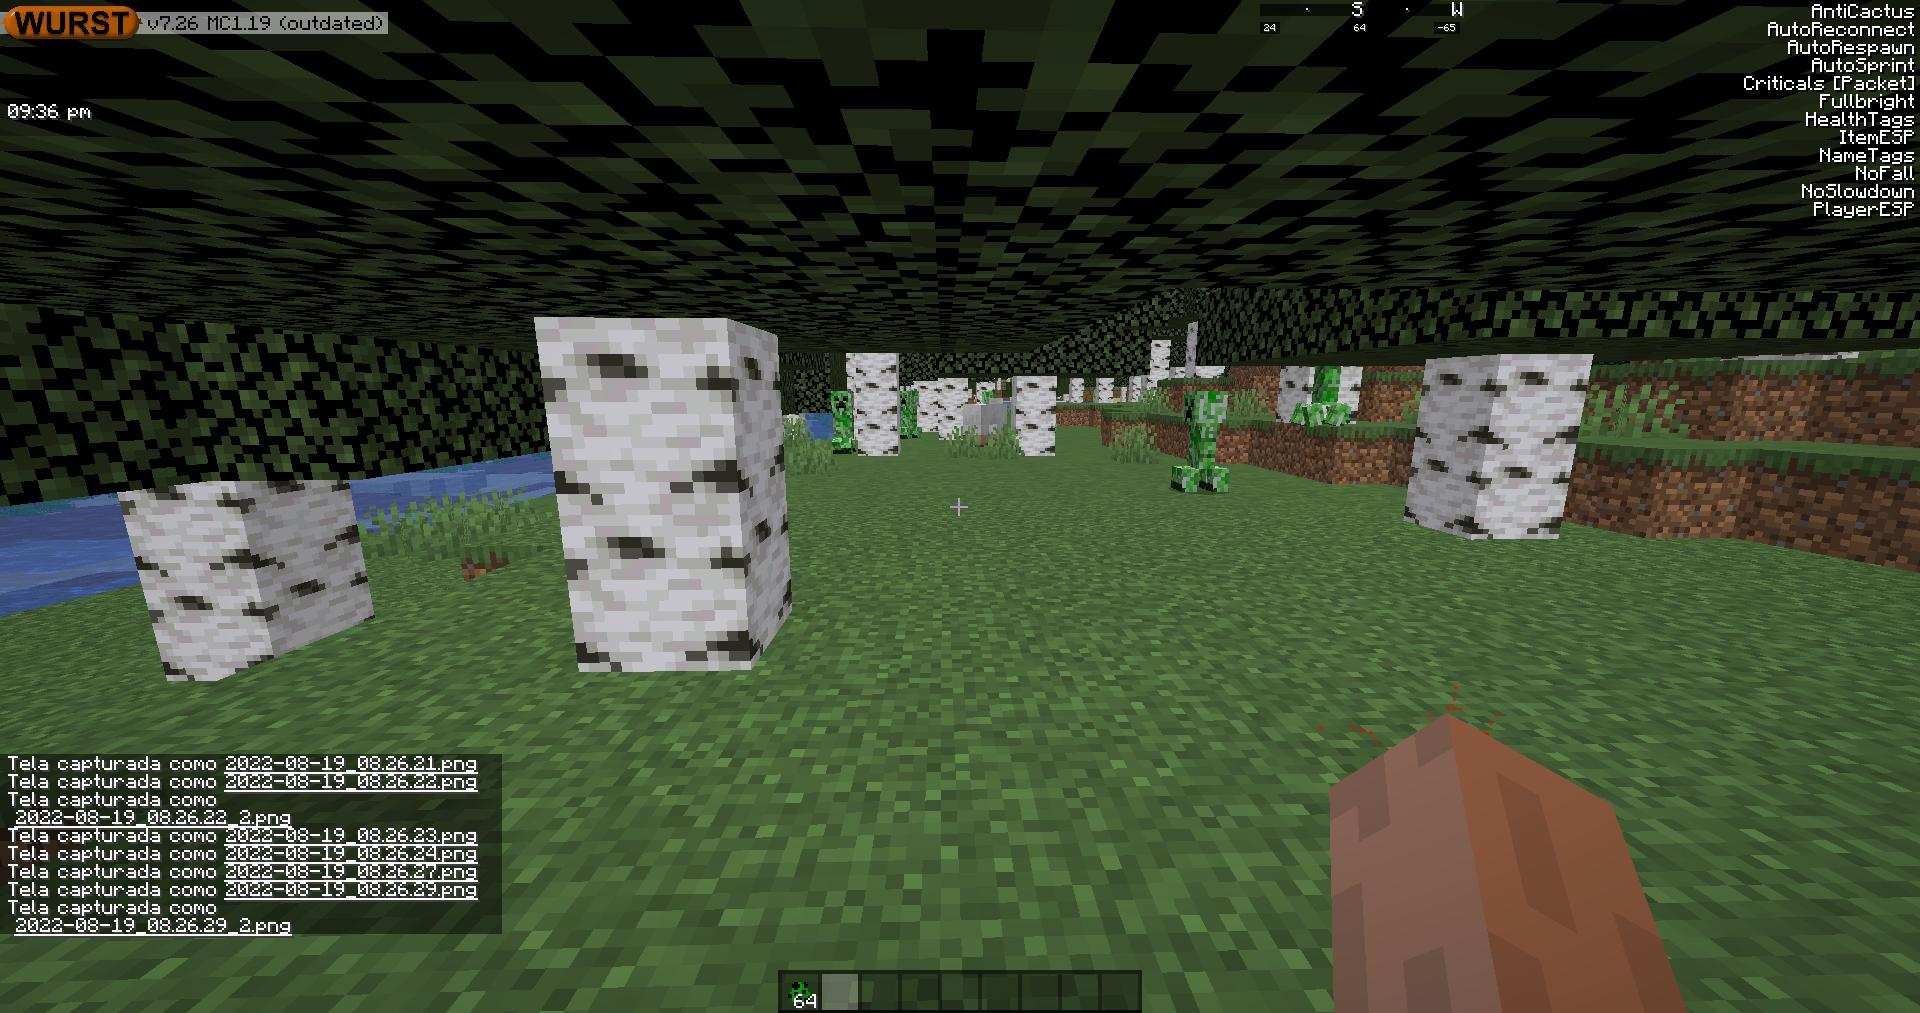creeper: (1176, 394, 1222, 494), (1302, 361, 1342, 424), (825, 388, 855, 452), (897, 390, 918, 443)
